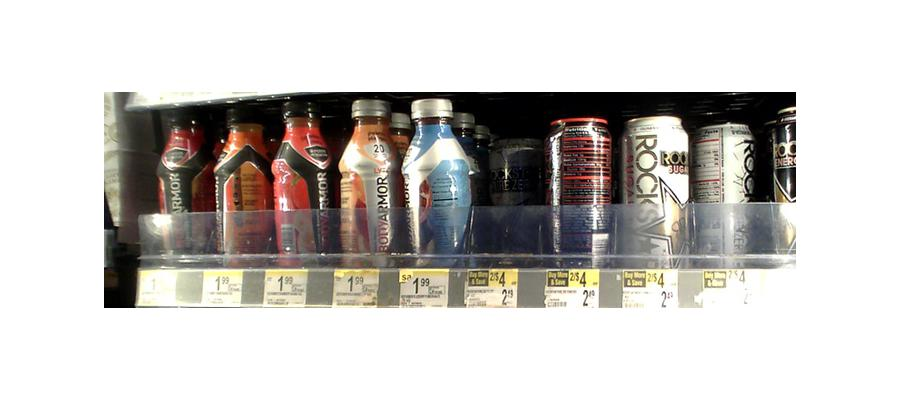bottle: (401, 95, 475, 271), (619, 111, 691, 270), (548, 110, 617, 271), (271, 92, 334, 266), (334, 96, 398, 263), (213, 102, 269, 263), (695, 117, 755, 264), (155, 99, 209, 257), (487, 131, 543, 259), (763, 105, 800, 264)
